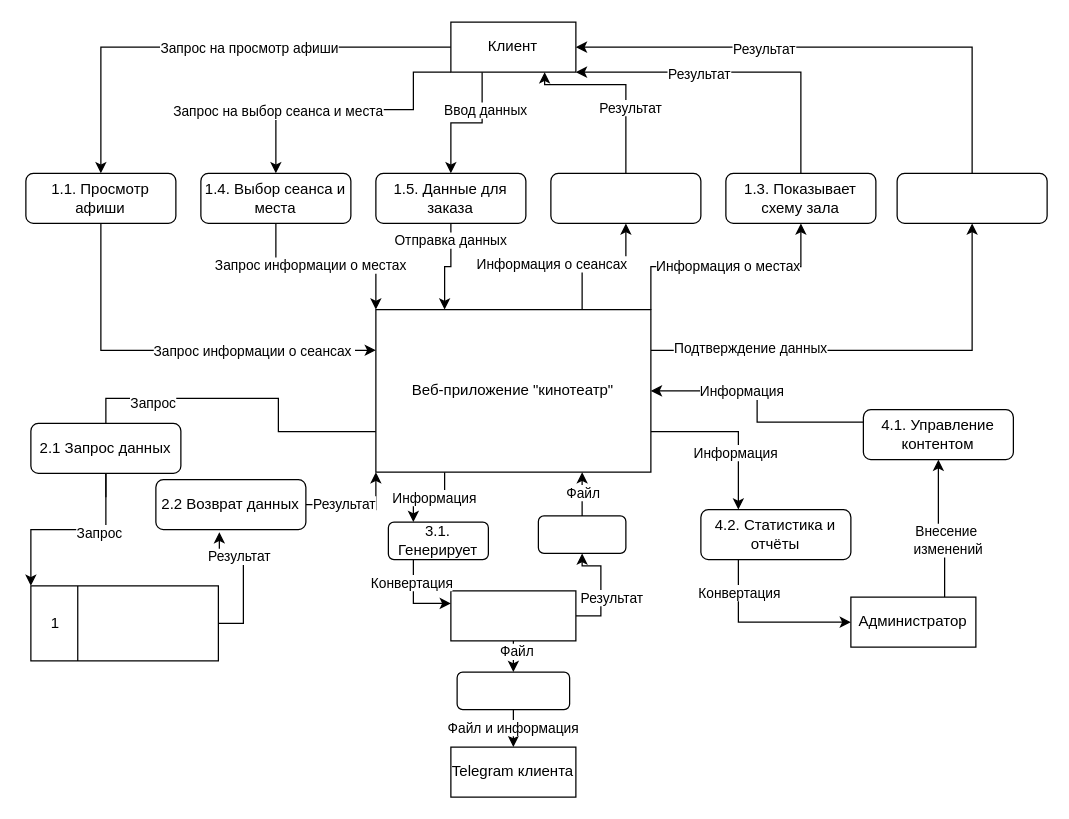
Image size: 1069x819. Some labels were removed from this diagram. Each missing label, with the box of its shape:
1.2. Отображает расписание: (550, 172, 701, 223)
1.6. Подтверждение заказа: (896, 172, 1047, 223)
3.2. Сохраняет: (537, 515, 626, 553)
3.3. Отправляет: (456, 671, 570, 710)
PDF билет: (450, 590, 576, 641)
База данных: (30, 585, 218, 661)
